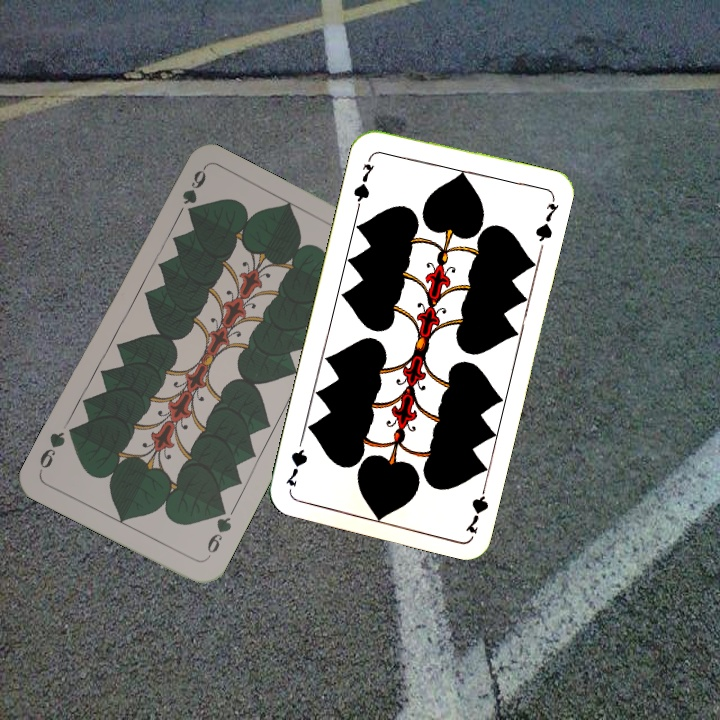G7: (461, 477, 491, 536), (349, 151, 377, 210)
G9: (202, 502, 234, 561), (178, 166, 209, 207)
